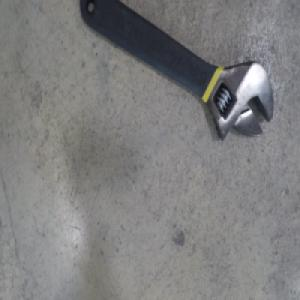AdjustableWrench: (79, 0, 275, 140)
